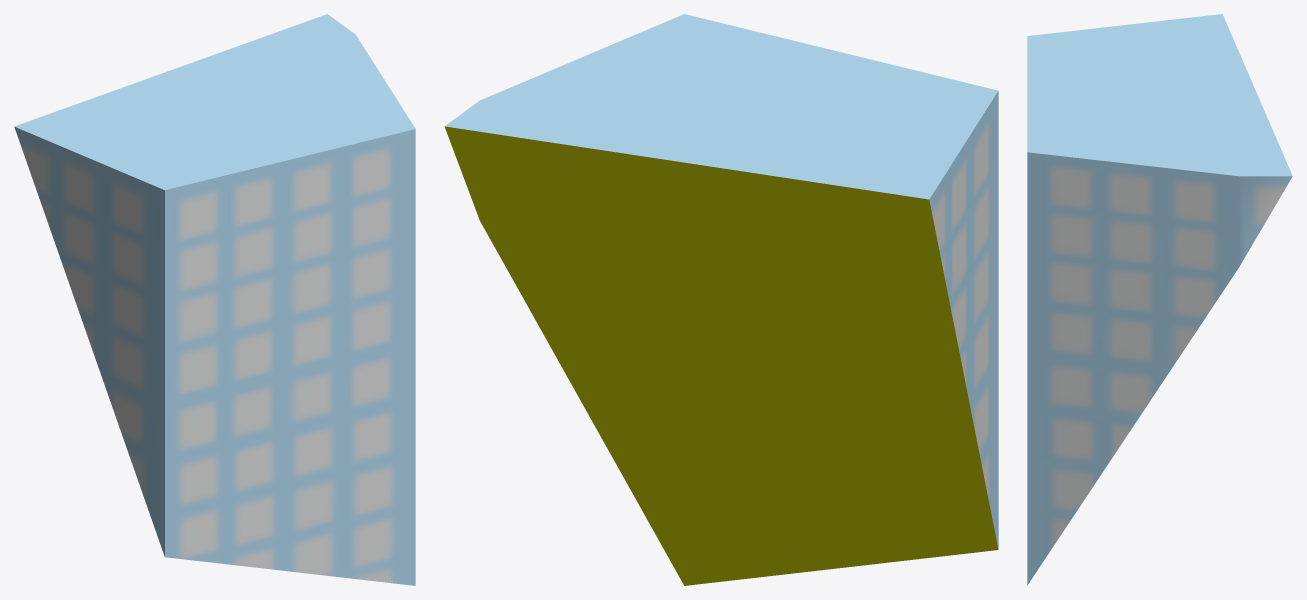
The model's file is mShard2.fbx.
3 renders of one model, left to right at view 1: azimuth 30°, elevation 25°; view 2: azimuth 150°, elevation 25°; view 3: azimuth 270°, elevation 25°, orthographic. The views are drawn at different scales.
Parts seen in each view (by area): view 1: shard32; view 2: shard32; view 3: shard32.
Part boxes in pixels (bbox=[...]): shard32: bbox=[14, 14, 415, 585]; shard32: bbox=[444, 14, 998, 585]; shard32: bbox=[1027, 14, 1292, 585].
Size of the model in its own units: 0.1342 by 0.1672 by 0.0928.
2 materials, 1 textured.
